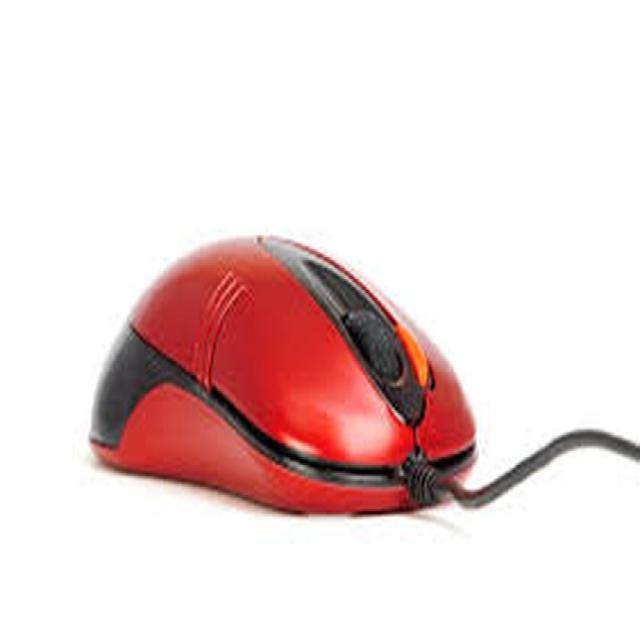mouse: (68, 182, 513, 541)
